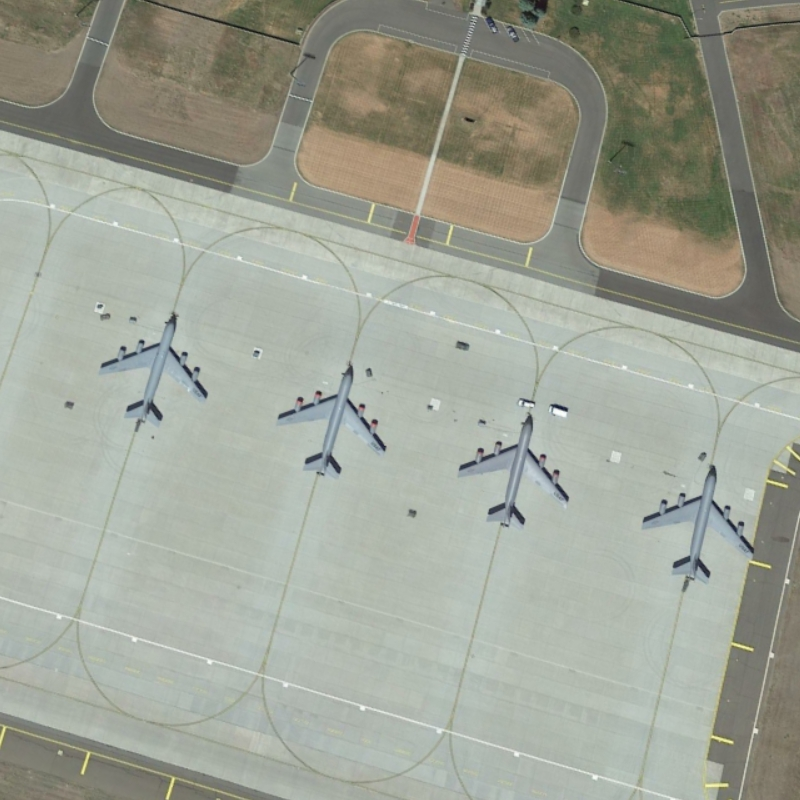A14: (269, 350, 398, 487), (93, 298, 217, 433), (640, 455, 765, 584), (451, 409, 577, 536)
